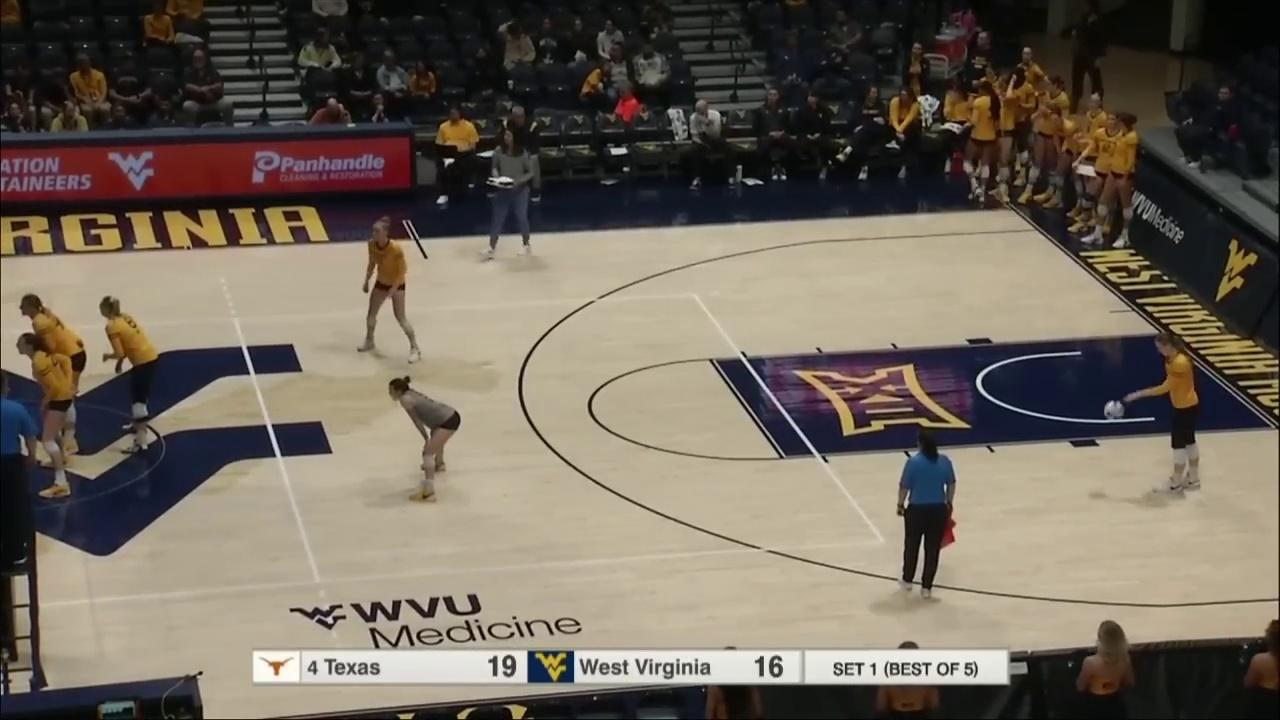player: (23, 293, 86, 468), (1134, 337, 1201, 496), (359, 212, 429, 362), (386, 376, 461, 504), (20, 335, 77, 501), (100, 300, 160, 451)
refree: (899, 430, 956, 600), (2, 373, 35, 564)
